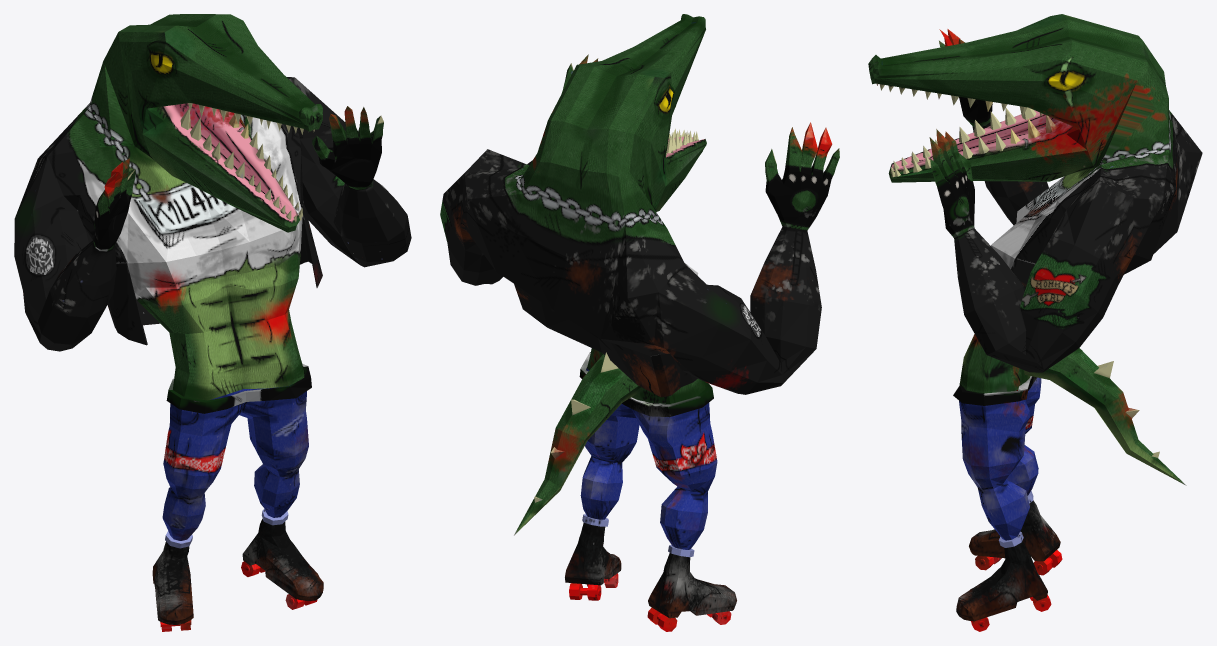
File: cocodrilaBonesSelect_000006.obj
3 renders of one model, left to right at view 1: azimuth 30°, elevation 25°; view 2: azimuth 150°, elevation 25°; view 3: azimuth 270°, elevation 25°, orthographic.
Visible parts, largest first — view 1: Crocodile.002_Cylinder.002; view 2: Crocodile.002_Cylinder.002; view 3: Crocodile.002_Cylinder.002.
Boxes of the visible parts, x1,y1,x2,y2 form: Crocodile.002_Cylinder.002: (14,14,411,631); Crocodile.002_Cylinder.002: (440,14,839,631); Crocodile.002_Cylinder.002: (868,14,1202,631).
Bounding box in the file's own units: 4.39 × 6.69 × 3.58.
